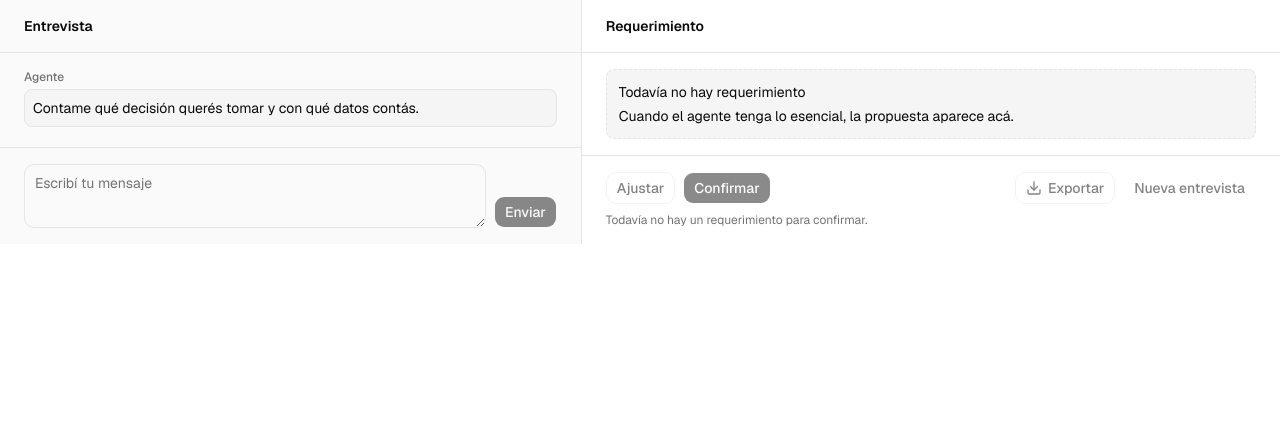
Test case: turno fallido › conserva el texto; Reintentar lo reenvía con el mismo turnId
The width and height of the screenshot is (1280, 436).
Expected: the element named "Conversación" is shown, [0,53,581,147]
Type "Mensaje importante" into the text box.
click(255, 196); type("Mensaje importante")  # box [24,164,486,228]
Then press Enter
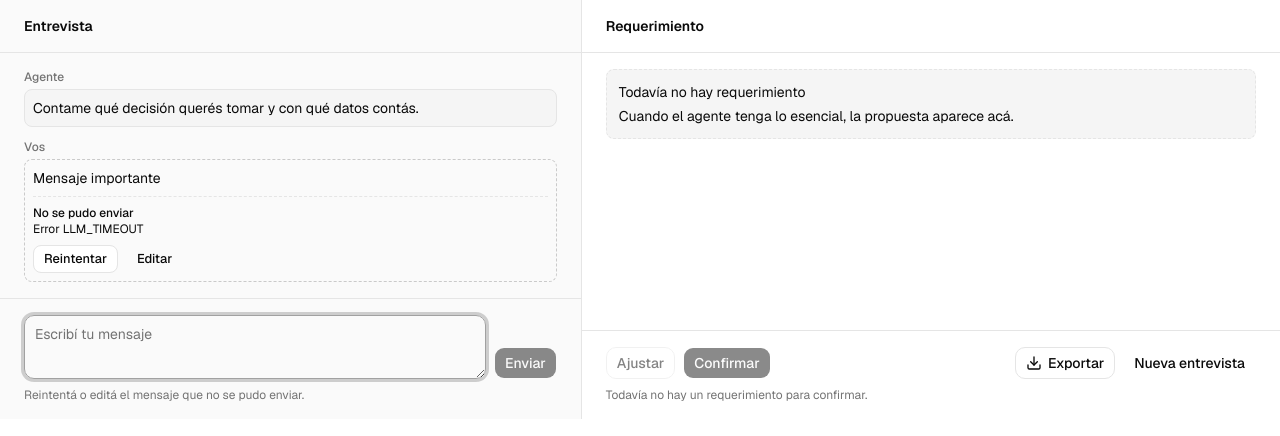
Now the text "No se pudo enviar" is shown, box [33,205,134,221]
Now the text "Mensaje importante" is shown, box [33,169,161,187]
Now the text "Error LLM_TIMEOUT" is shown, box [33,221,143,237]
Click the button "Reintentar".
click(75, 259)  # box [33,245,118,273]
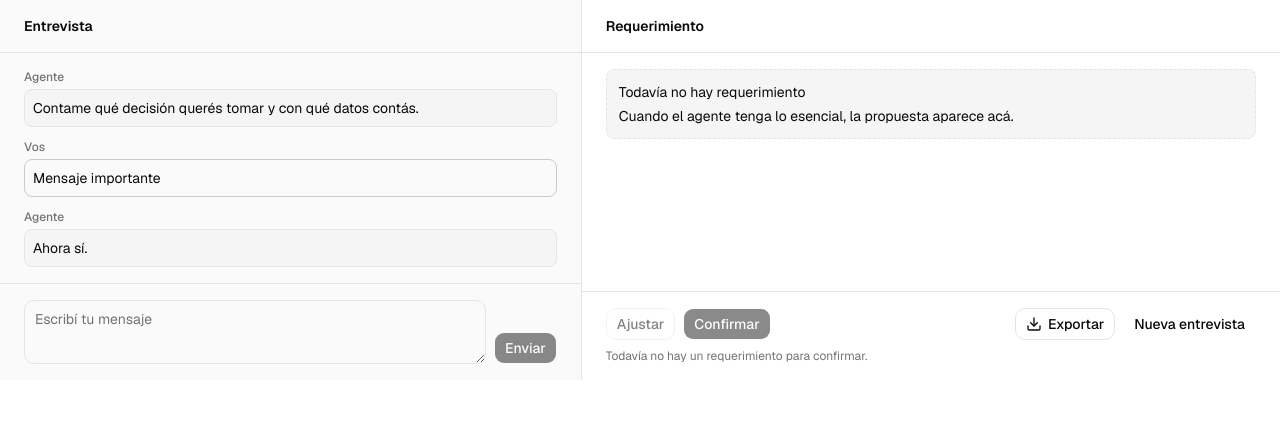
Now the text "Ahora sí." is shown, box [33,239,87,257]
Now the text "No se pudo enviar" is gone
